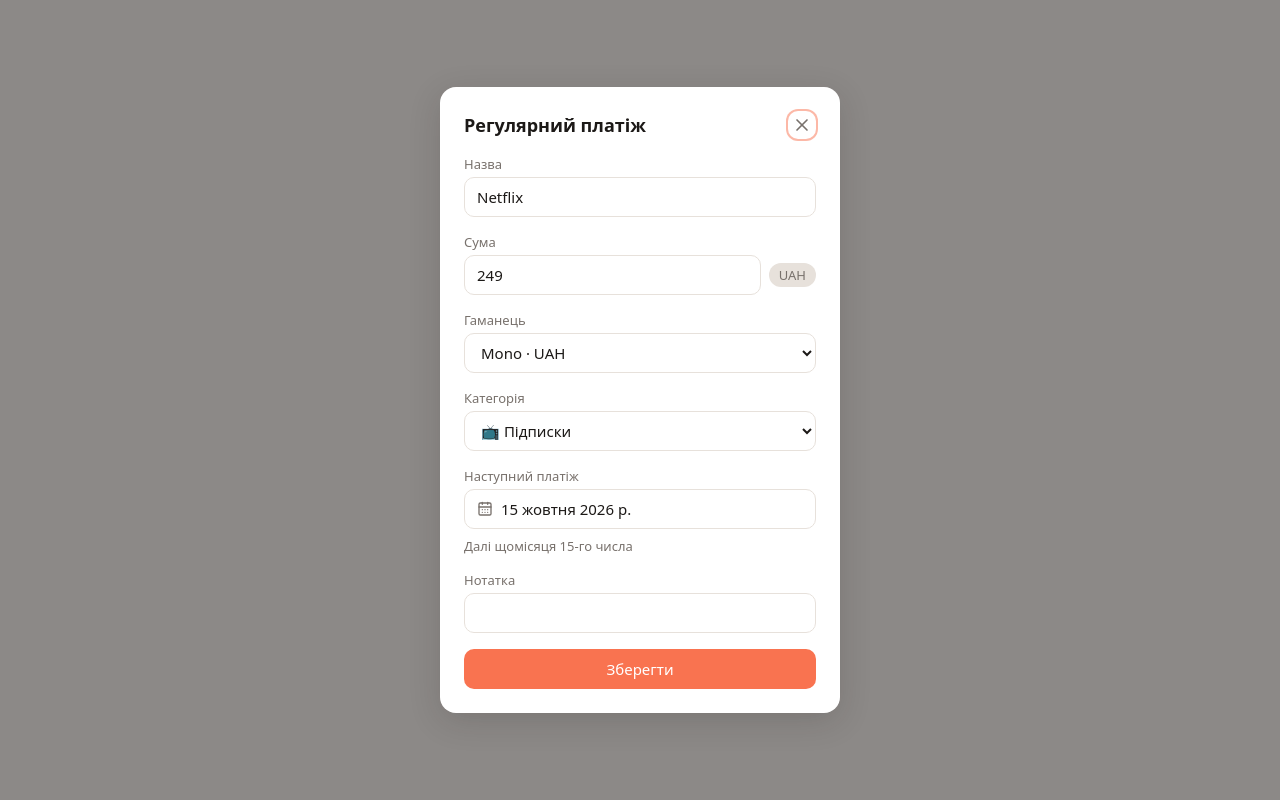
Test case: RecurringDialog › shows the server refusing a past next payment
Click the button with aria-label "Наступний платіж" at (566, 509), box [464, 489, 816, 529]
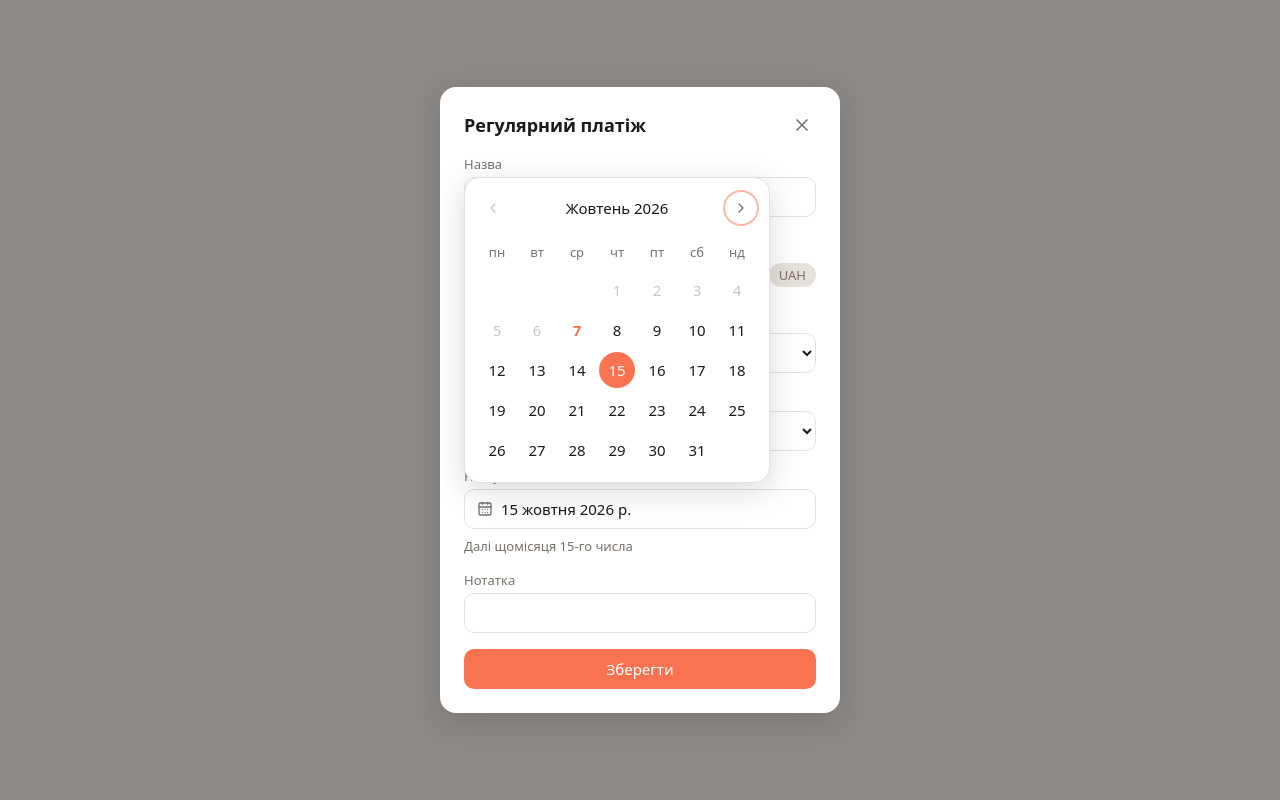
Click the button "20" at (537, 410), box [519, 392, 555, 428]
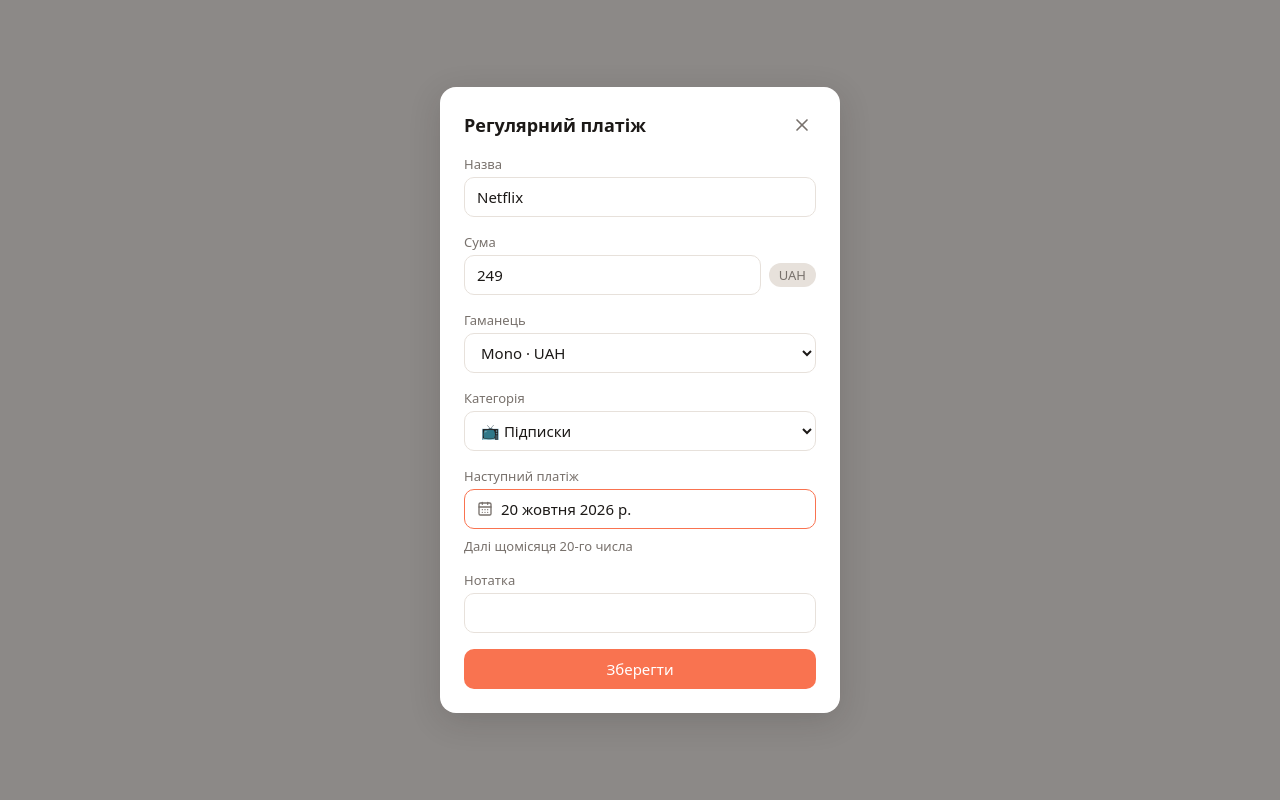
Click the button "Зберегти" at (640, 669), box [464, 649, 816, 689]
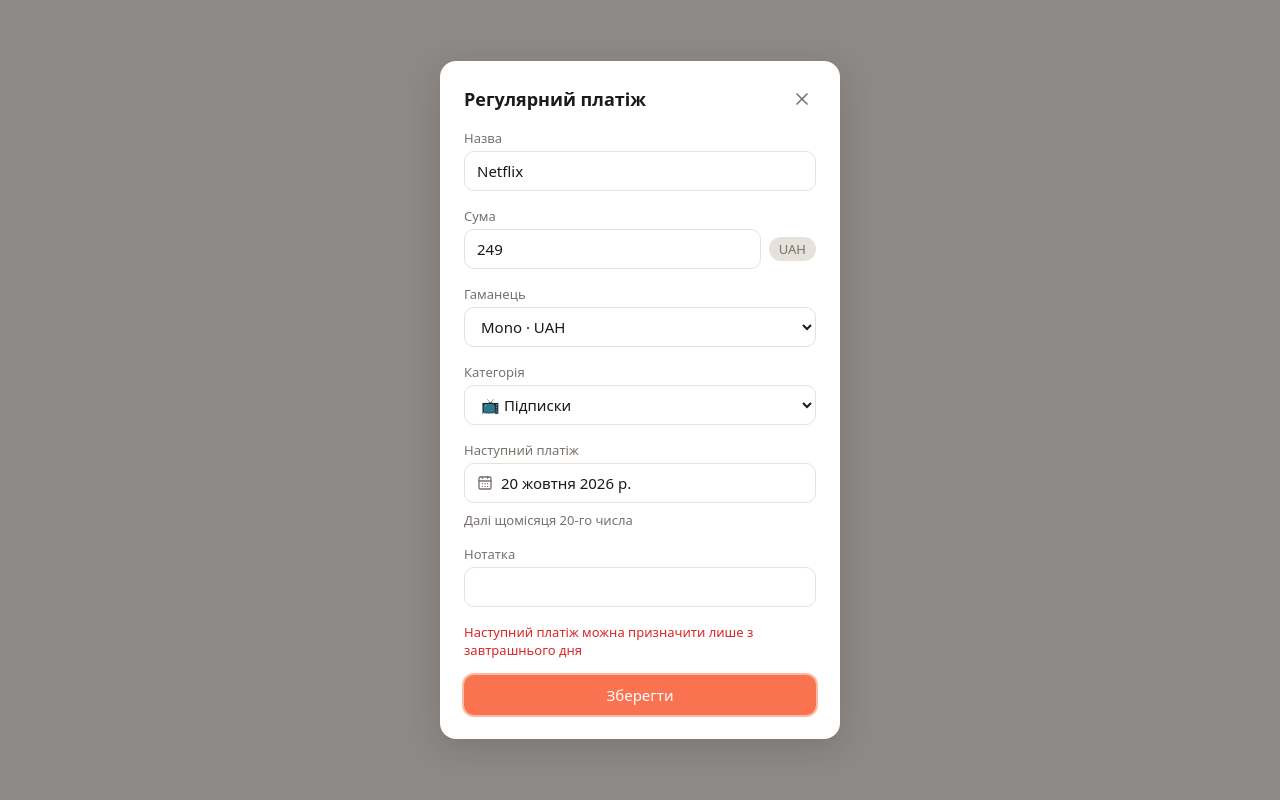
Result: the message reads "Наступний платіж можна призначити лише з завтрашнього дня" at [464, 623, 753, 659]
